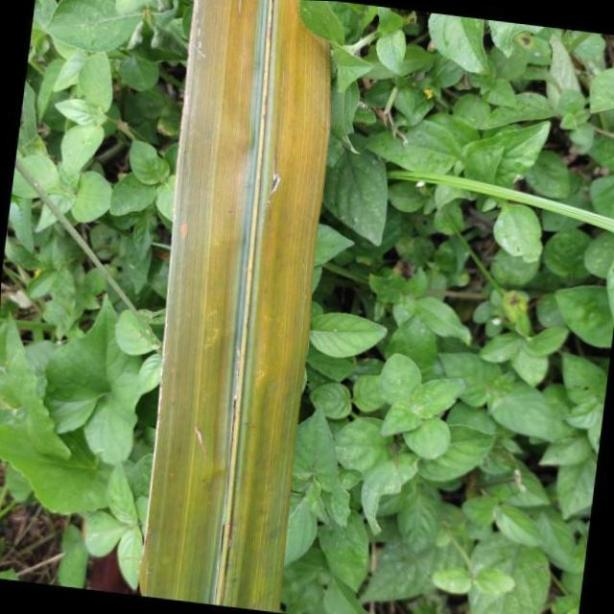Megnesium: (141, 0, 334, 614)
